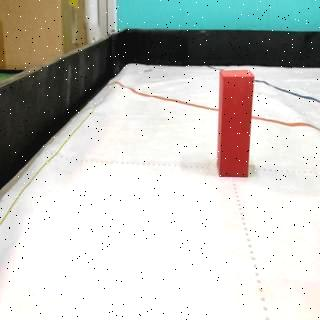redbox: (218, 68, 254, 178)
